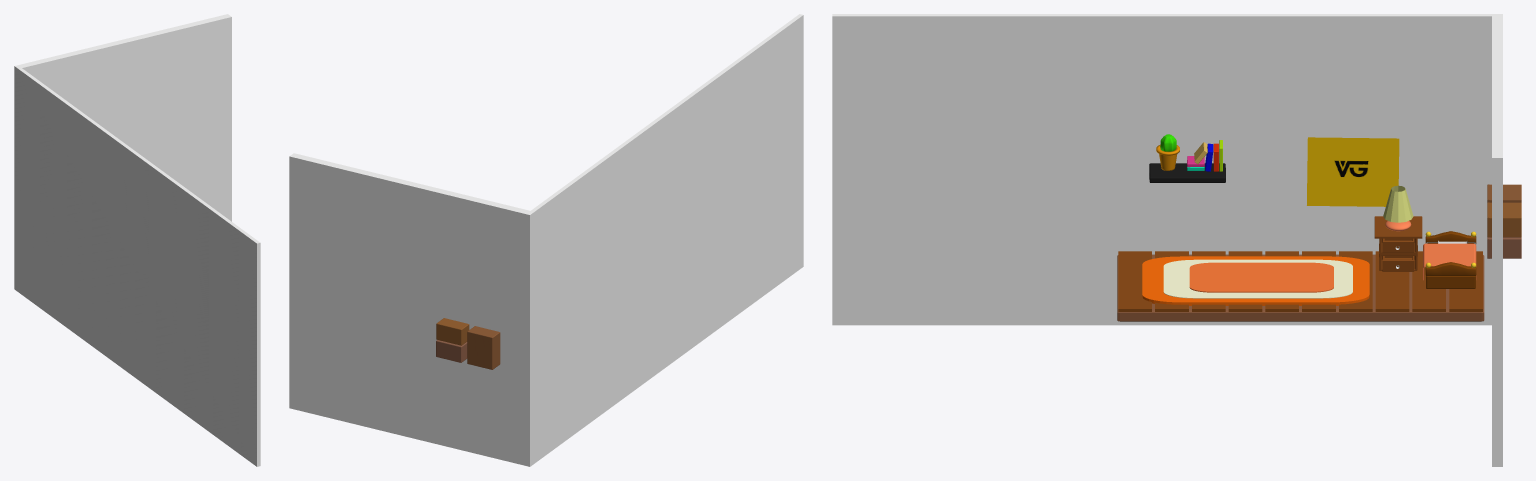
Rendered from RoomPractice.glb.
3 views of the same model, side by side, from view 1: azimuth 30°, elevation 25°; view 2: azimuth 150°, elevation 25°; view 3: azimuth 270°, elevation 25° (orthographic). The views are drawn at different scales.
Visible parts, largest first — view 1: Cube; view 2: Cube, ventana1, ventana2, ventana3; view 3: Cube, piso, Poster, pisodebajo, alfombra.003, alfombra.001, alfombra.002, mesa, estanteria, Plane.008, Plane.006, ventana2 (+1 smaller).
Boxes of the visible parts, x1,y1,x2,y2 form: Cube: (14, 14, 260, 466); Cube: (289, 14, 803, 466); ventana1: (467, 326, 500, 369); ventana2: (436, 318, 469, 345); ventana3: (436, 340, 467, 362); Cube: (832, 14, 1502, 466); piso: (1118, 251, 1482, 311); Poster: (1307, 137, 1399, 206); pisodebajo: (1117, 254, 1484, 321); alfombra.003: (1189, 262, 1333, 292); alfombra.001: (1142, 256, 1369, 305); alfombra.002: (1163, 259, 1352, 298); mesa: (1374, 216, 1422, 271); estanteria: (1149, 163, 1225, 182); Plane.008: (1423, 243, 1476, 280); Plane.006: (1425, 231, 1476, 275); ventana2: (1487, 202, 1521, 237).
Size of the model in its own units: 5 by 5 by 10.12.
Materials: 30 (1 with a texture image).
